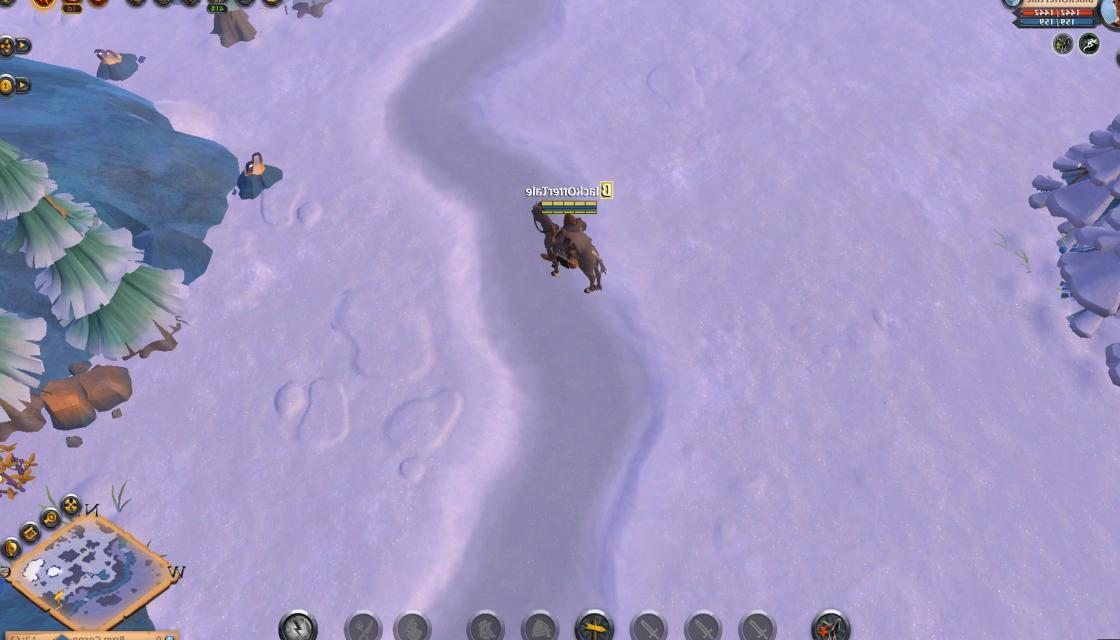copperore: (228, 150, 284, 202), (90, 45, 144, 84)
limestone: (38, 358, 134, 436)
